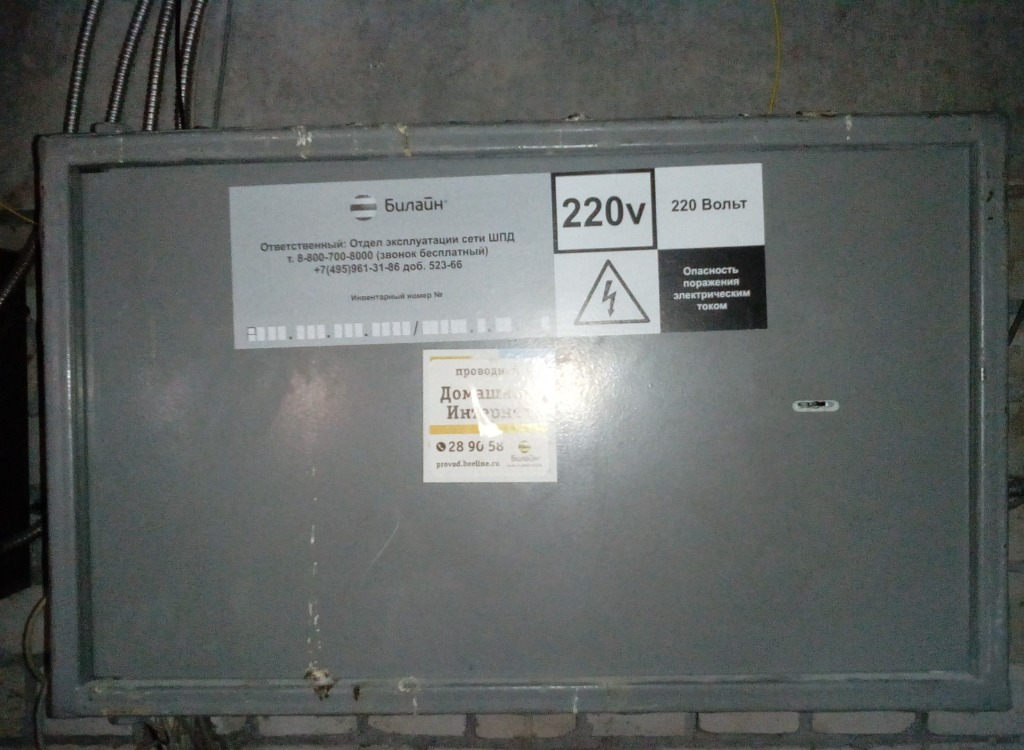e2-6u: (29, 104, 1019, 724)
